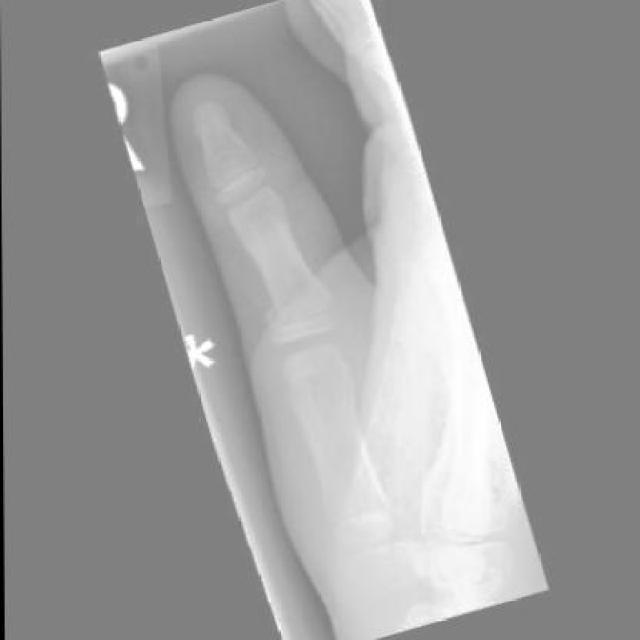Fracture: (254, 269, 342, 345)
